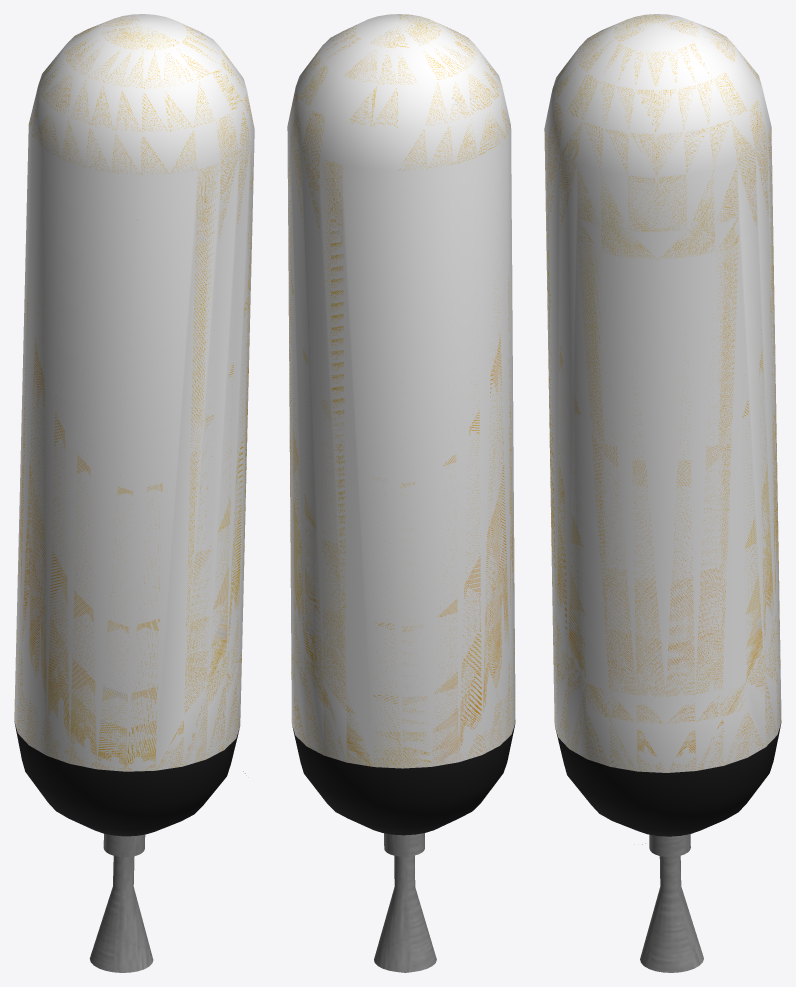
The model's file is tank.glb.
3 renders of one model, left to right at view 1: azimuth 30°, elevation 25°; view 2: azimuth 150°, elevation 25°; view 3: azimuth 270°, elevation 25°, orthographic.
Visible parts, largest first — view 1: Mesh.052; view 2: Mesh.052; view 3: Mesh.052.
Part boxes in pixels (x1,y1,x2,y2): Mesh.052: (14,14,254,972); Mesh.052: (287,14,515,972); Mesh.052: (544,14,781,972).
Bounding box in the file's own units: 0.8819 × 3.9 × 0.8786.
Materials: 6 (3 with a texture image).
